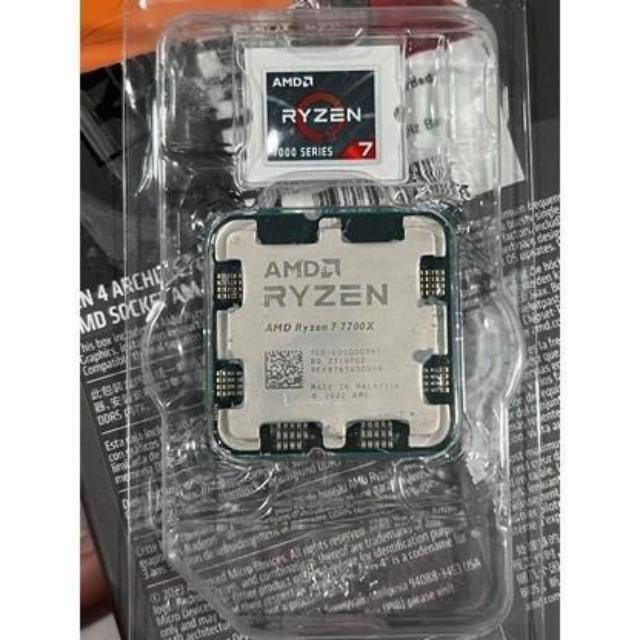CPU: (216, 216, 462, 462)
